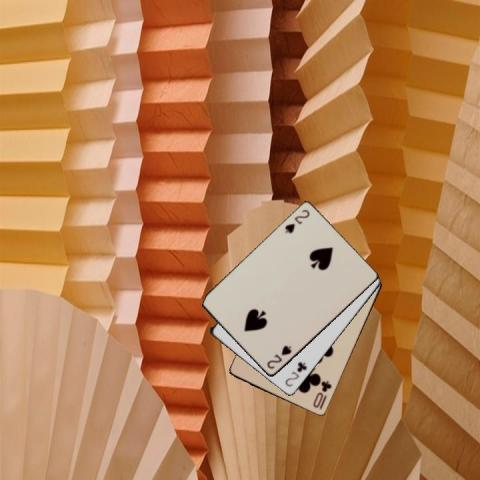10c: (310, 378, 333, 411)
2c: (282, 358, 309, 388)
2s: (264, 342, 293, 370), (282, 207, 311, 235)
